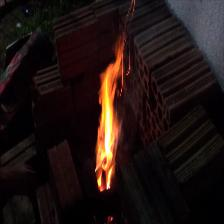fire: (81, 28, 144, 205)
